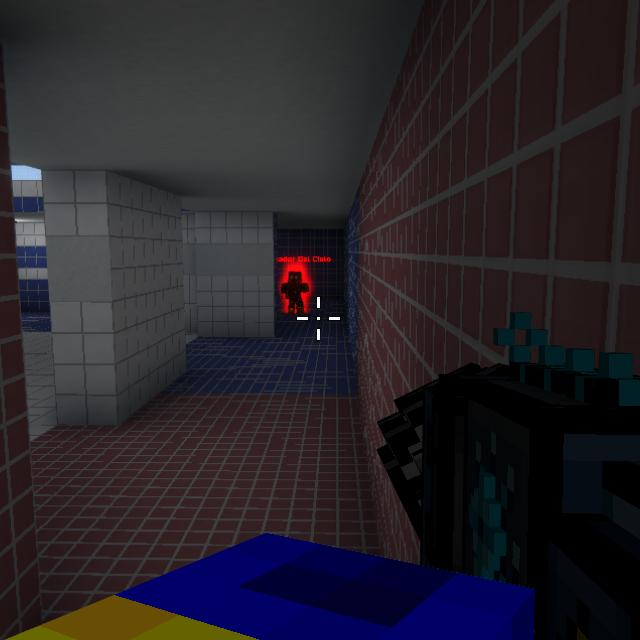Enemy: (281, 271, 309, 313)
